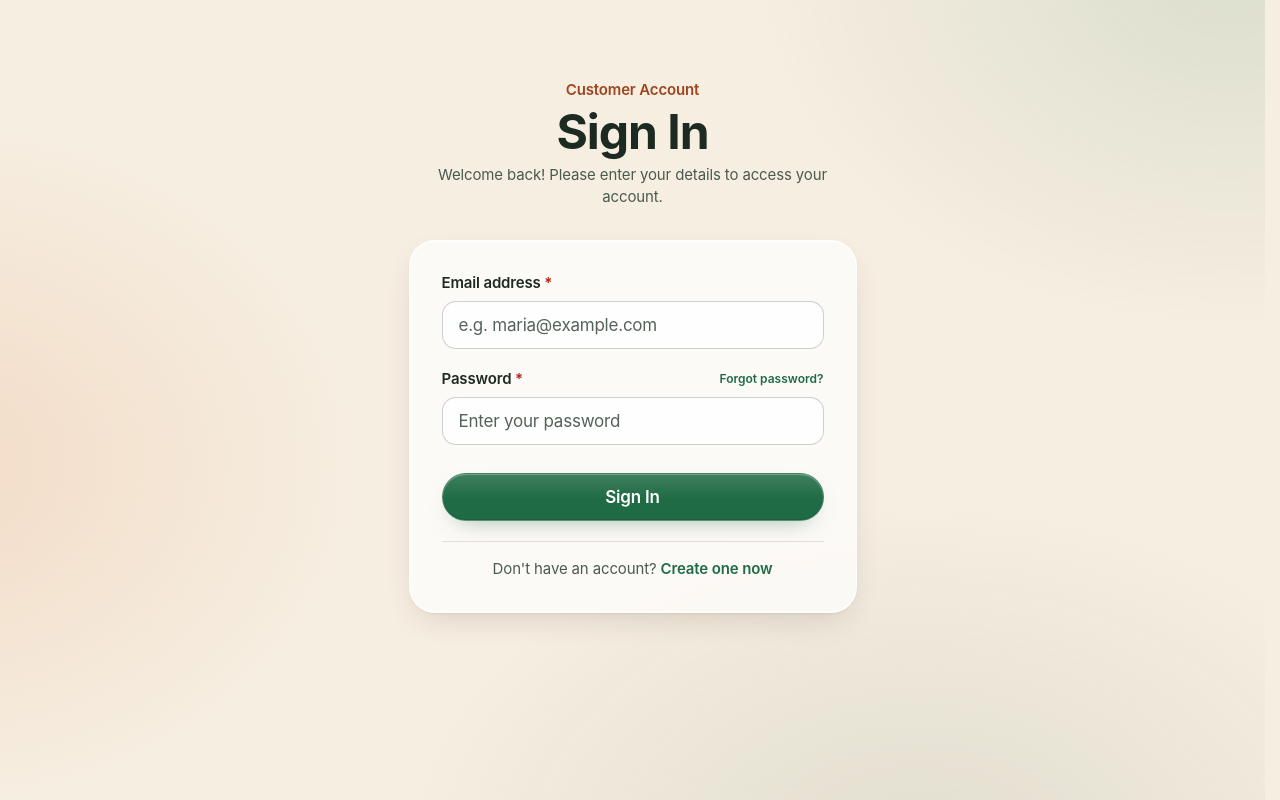
Test case: Account Forms Component Tests › SignInView (FR-032) › TC-P4-167 — distinguishes unconfirmed account from invalid credentials (FR-032)
In the field labelled "Email address *": (632, 325) [442,301,824,349], type "customer@example.com"
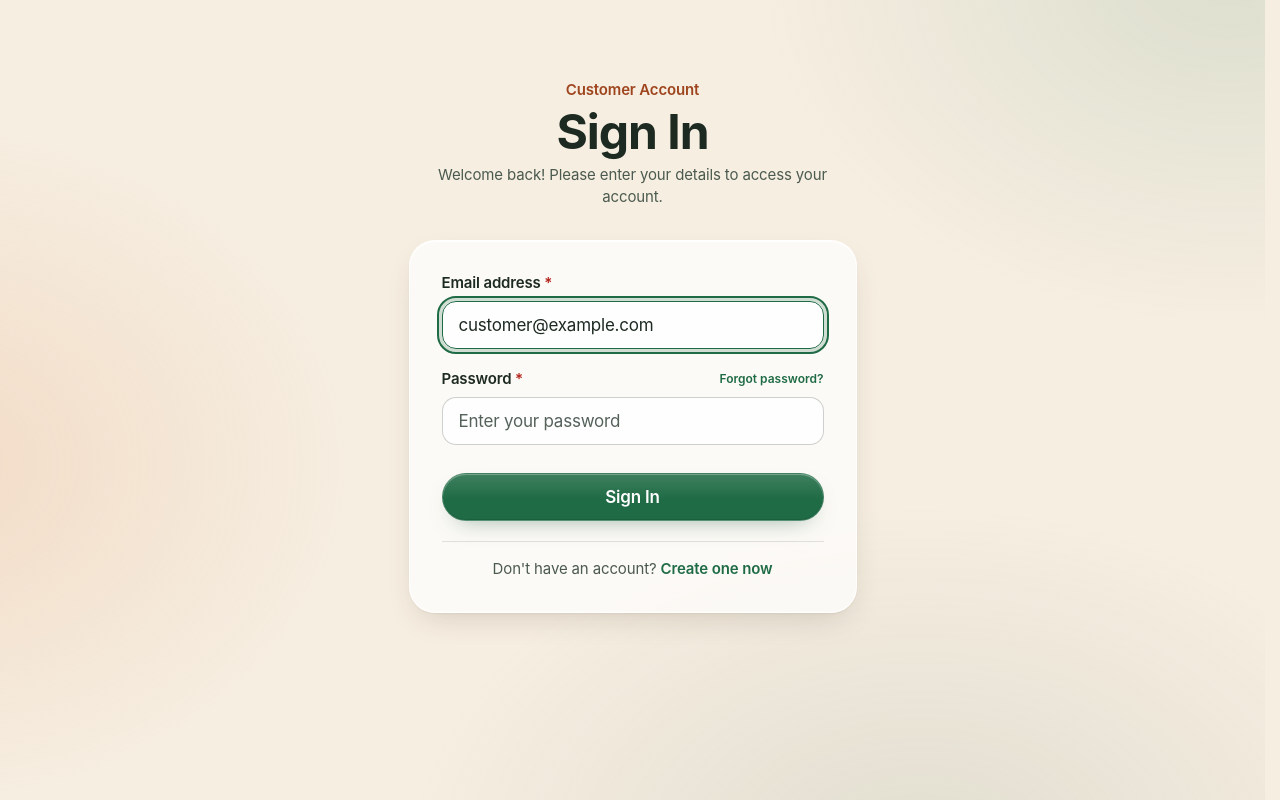
In the password field labelled "Password *": (632, 421) [442,397,824,445], type "CorrectPass123"
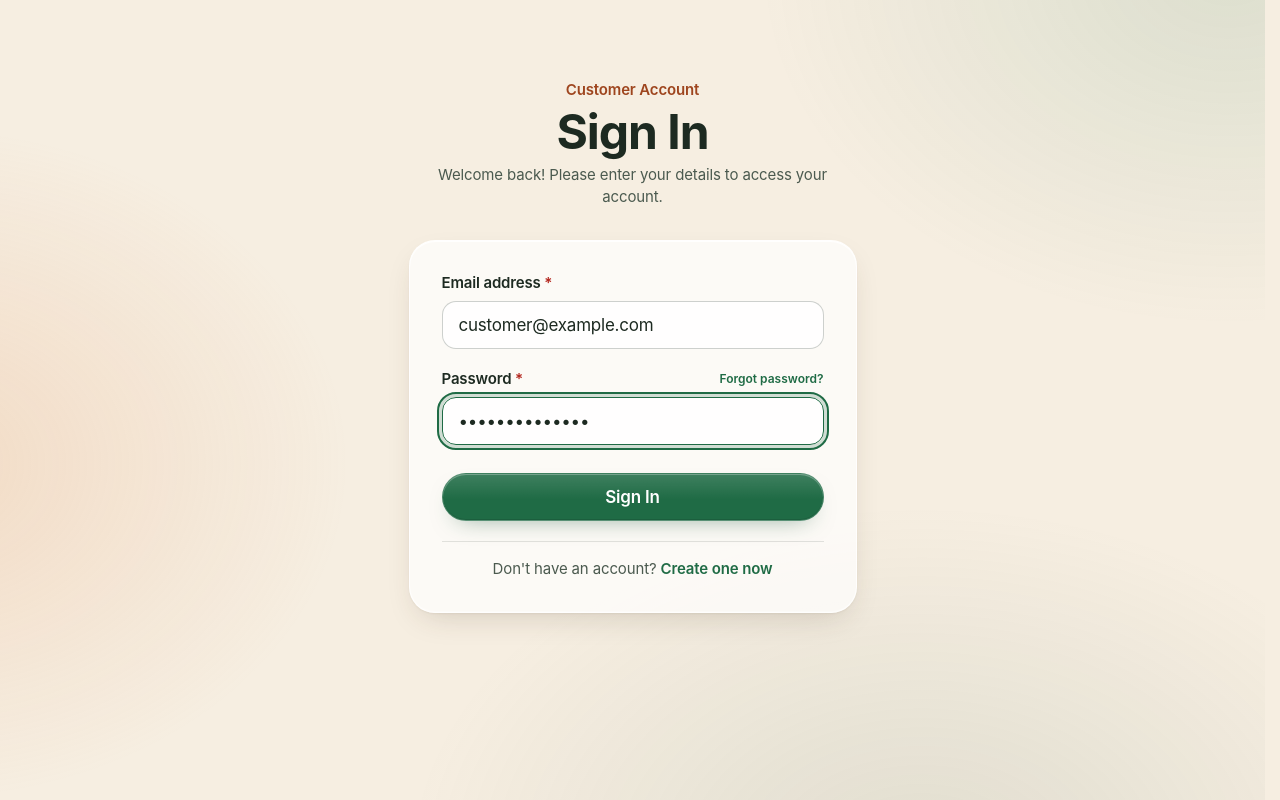
Click the button "Sign In": (632, 497) [442,473,824,521]
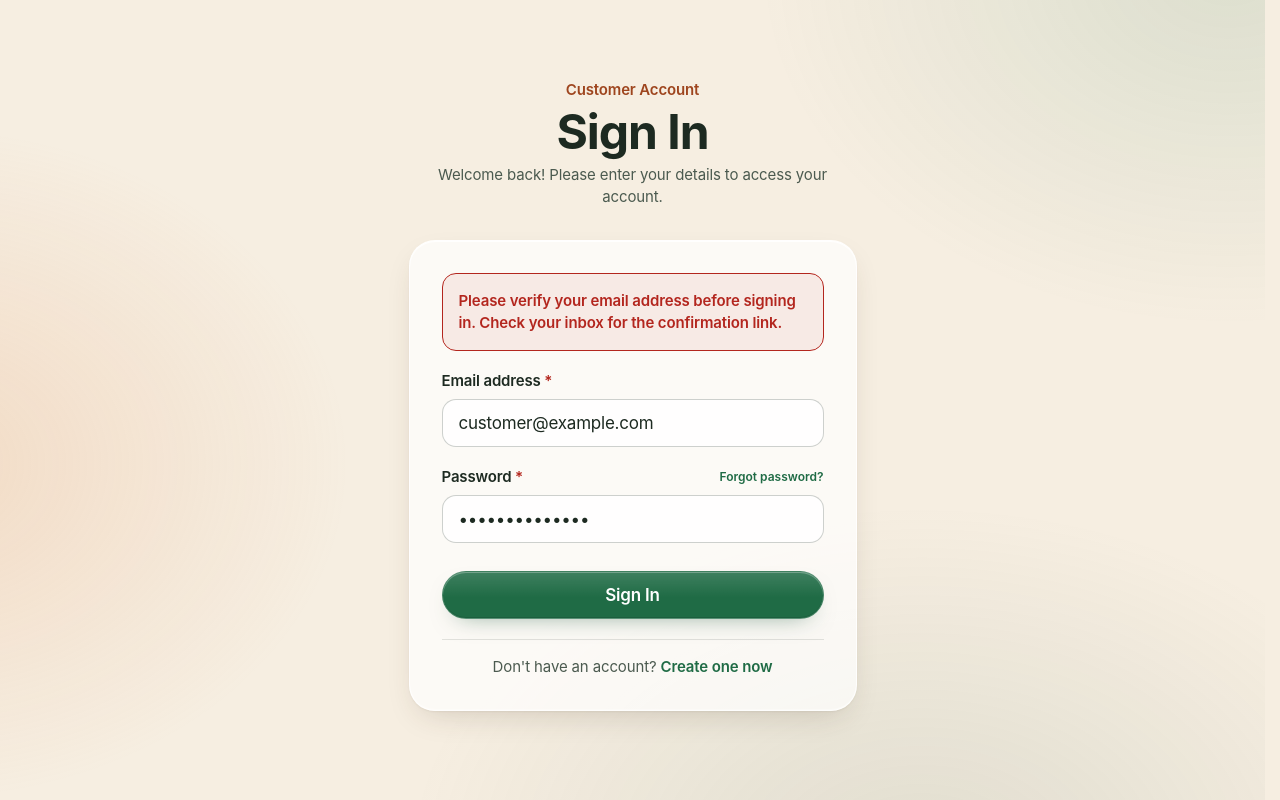
expect the text "please verify your email address before signing in. check your inbox for the confirmation link." is shown: met, box [458,291,796,332]
